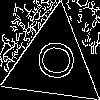O: (28, 37, 76, 82)
